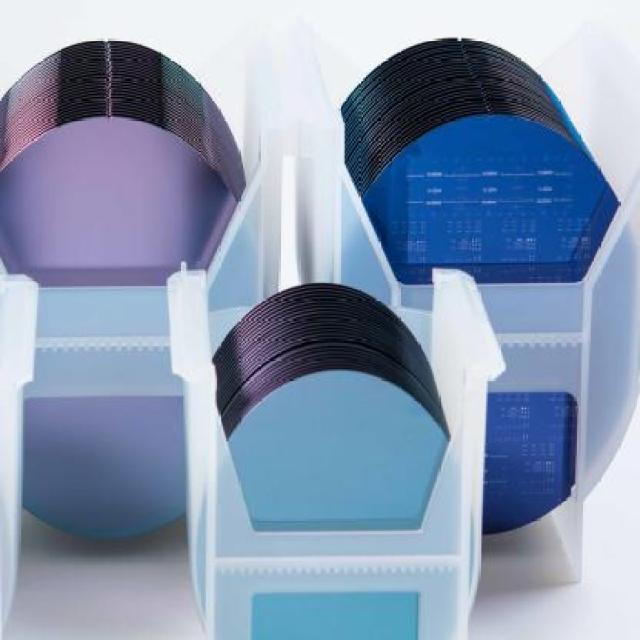Wafer: (175, 277, 485, 640), (0, 38, 245, 289), (340, 37, 608, 237)
